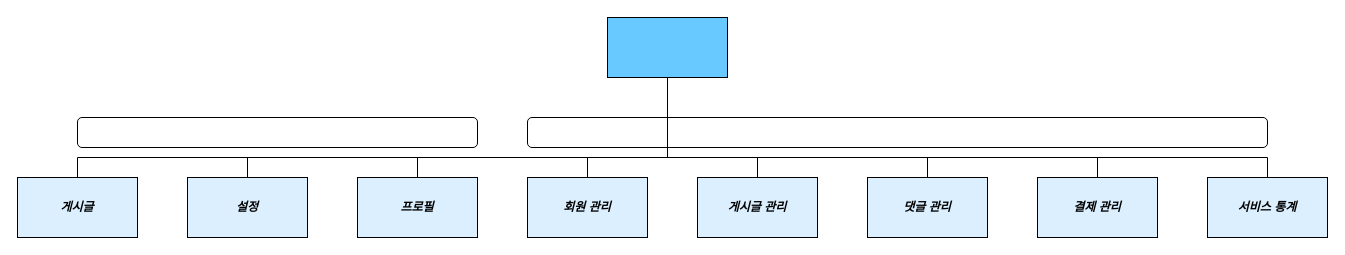
This 1345x255 diagram has some shape labels left out. The shapes that lost their labels are listed below. From the top down, each one's centre as x and y in pixels, then its label:
At point (667, 47): "SLOWEAT".
At point (277, 132): "사용자".
At point (897, 132): "관리자".
